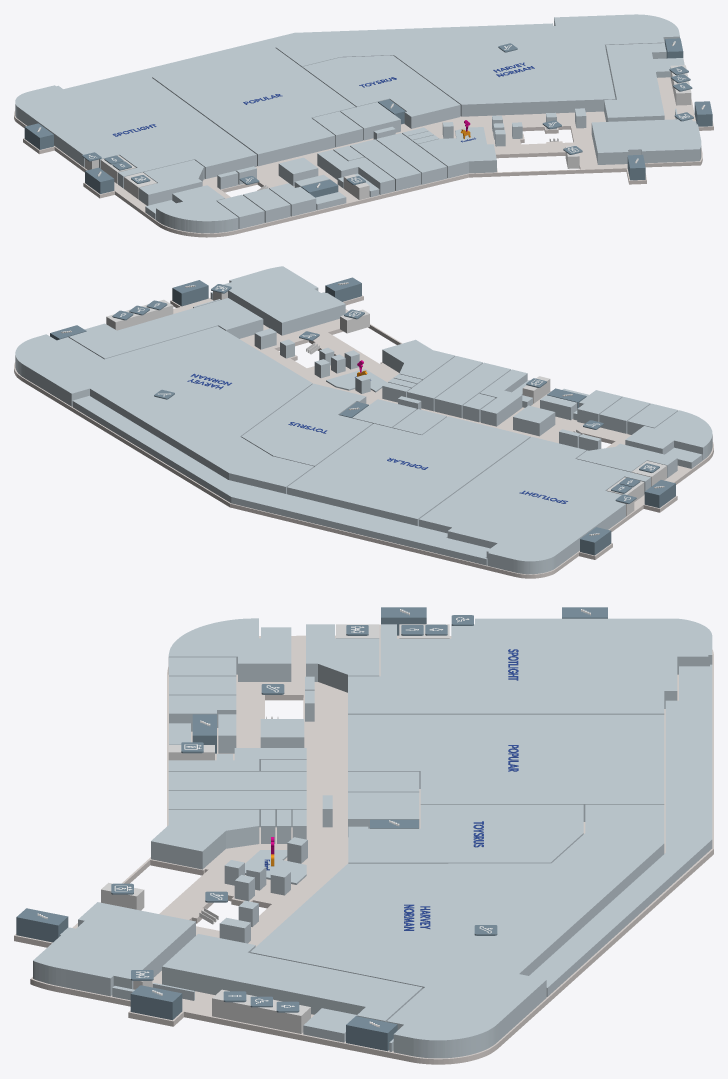
The model's file is Level2_3D_9.1.glb.
The picture shows the model from 3 angles, top to bottom: view 1: azimuth 30°, elevation 25°; view 2: azimuth 150°, elevation 25°; view 3: azimuth 270°, elevation 25°; orthographic projection. The views are drawn at different scales.
Parts seen in each view (by area): view 1: Unit_L2.07, Unit_L2.01 & 02, Unit_L2.03, Floor, Unit_L2.06, Unit_L2.09 & 10, NoEntry_L2.1, Unit_L2.08, Utility_L2.1, Unit_L2.25, Unit_L2.11, 12 & 13, Unit_L2.19 & 20a (+13 smaller); view 2: Unit_L2.07, Unit_L2.01 & 02, Unit_L2.03, NoEntry_L2.1, Floor, Unit_L2.06, Unit_L2.09 & 10, Unit_L2.08, Utility_L2.1, Unit_L2.25, Unit_L2.11, 12 & 13, Unit_L2.18 (+13 smaller); view 3: Unit_L2.07, Unit_L2.01 & 02, Unit_L2.03, Floor, NoEntry_L2.1, Unit_L2.06, Unit_L2.08, Unit_L2.09 & 10, Utility_L2.1, Unit_L2.11, 12 & 13, Unit_L2.25, Unit_L2.18 (+13 smaller).
Boxes of the visible parts, box(x1,y1,x2,y2) form: Unit_L2.07: box(275, 14, 679, 116); Unit_L2.01 & 02: box(15, 77, 256, 205); Unit_L2.03: box(152, 47, 355, 166); Floor: box(14, 60, 713, 237); Unit_L2.06: box(302, 55, 460, 128); Unit_L2.09 & 10: box(591, 119, 701, 164); NoEntry_L2.1: box(63, 23, 696, 219); Unit_L2.08: box(604, 43, 666, 121); Utility_L2.1: box(24, 38, 712, 197); Unit_L2.25: box(156, 185, 238, 233); Unit_L2.11, 12 & 13: box(417, 139, 496, 178); Unit_L2.19 & 20a: box(317, 149, 394, 194); Unit_L2.07: box(15, 326, 313, 493); Unit_L2.01 & 02: box(419, 437, 677, 574); Unit_L2.03: box(287, 416, 530, 526); NoEntry_L2.1: box(72, 291, 702, 565); Floor: box(14, 295, 713, 578); Unit_L2.06: box(241, 383, 372, 466); Unit_L2.09 & 10: box(223, 266, 345, 335); Unit_L2.08: box(69, 298, 263, 359); Utility_L2.1: box(50, 277, 675, 555); Unit_L2.25: box(625, 410, 712, 460); Unit_L2.11, 12 & 13: box(382, 339, 455, 380); Unit_L2.18: box(434, 362, 510, 417); Unit_L2.07: box(250, 804, 664, 1058); Unit_L2.01 & 02: box(306, 618, 712, 714); Unit_L2.03: box(348, 714, 664, 821); Floor: box(14, 624, 713, 1064); NoEntry_L2.1: box(60, 627, 712, 1051); Unit_L2.06: box(348, 804, 583, 863); Unit_L2.08: box(162, 934, 422, 1021); Unit_L2.09 & 10: box(33, 902, 195, 996); Utility_L2.1: box(16, 607, 607, 1051); Unit_L2.11, 12 & 13: box(151, 809, 259, 869); Unit_L2.25: box(168, 618, 291, 681); Unit_L2.18: box(168, 771, 306, 790).
Bounding box in the file's own units: 51.55 × 1.93 × 35.09.
